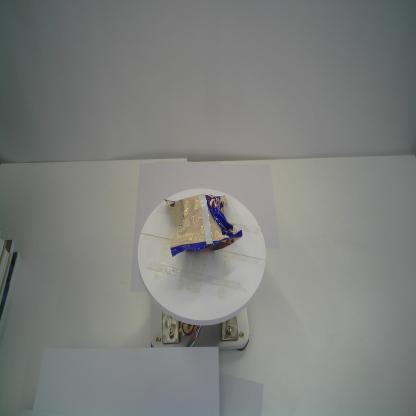Dessert: (162, 190, 244, 259)
